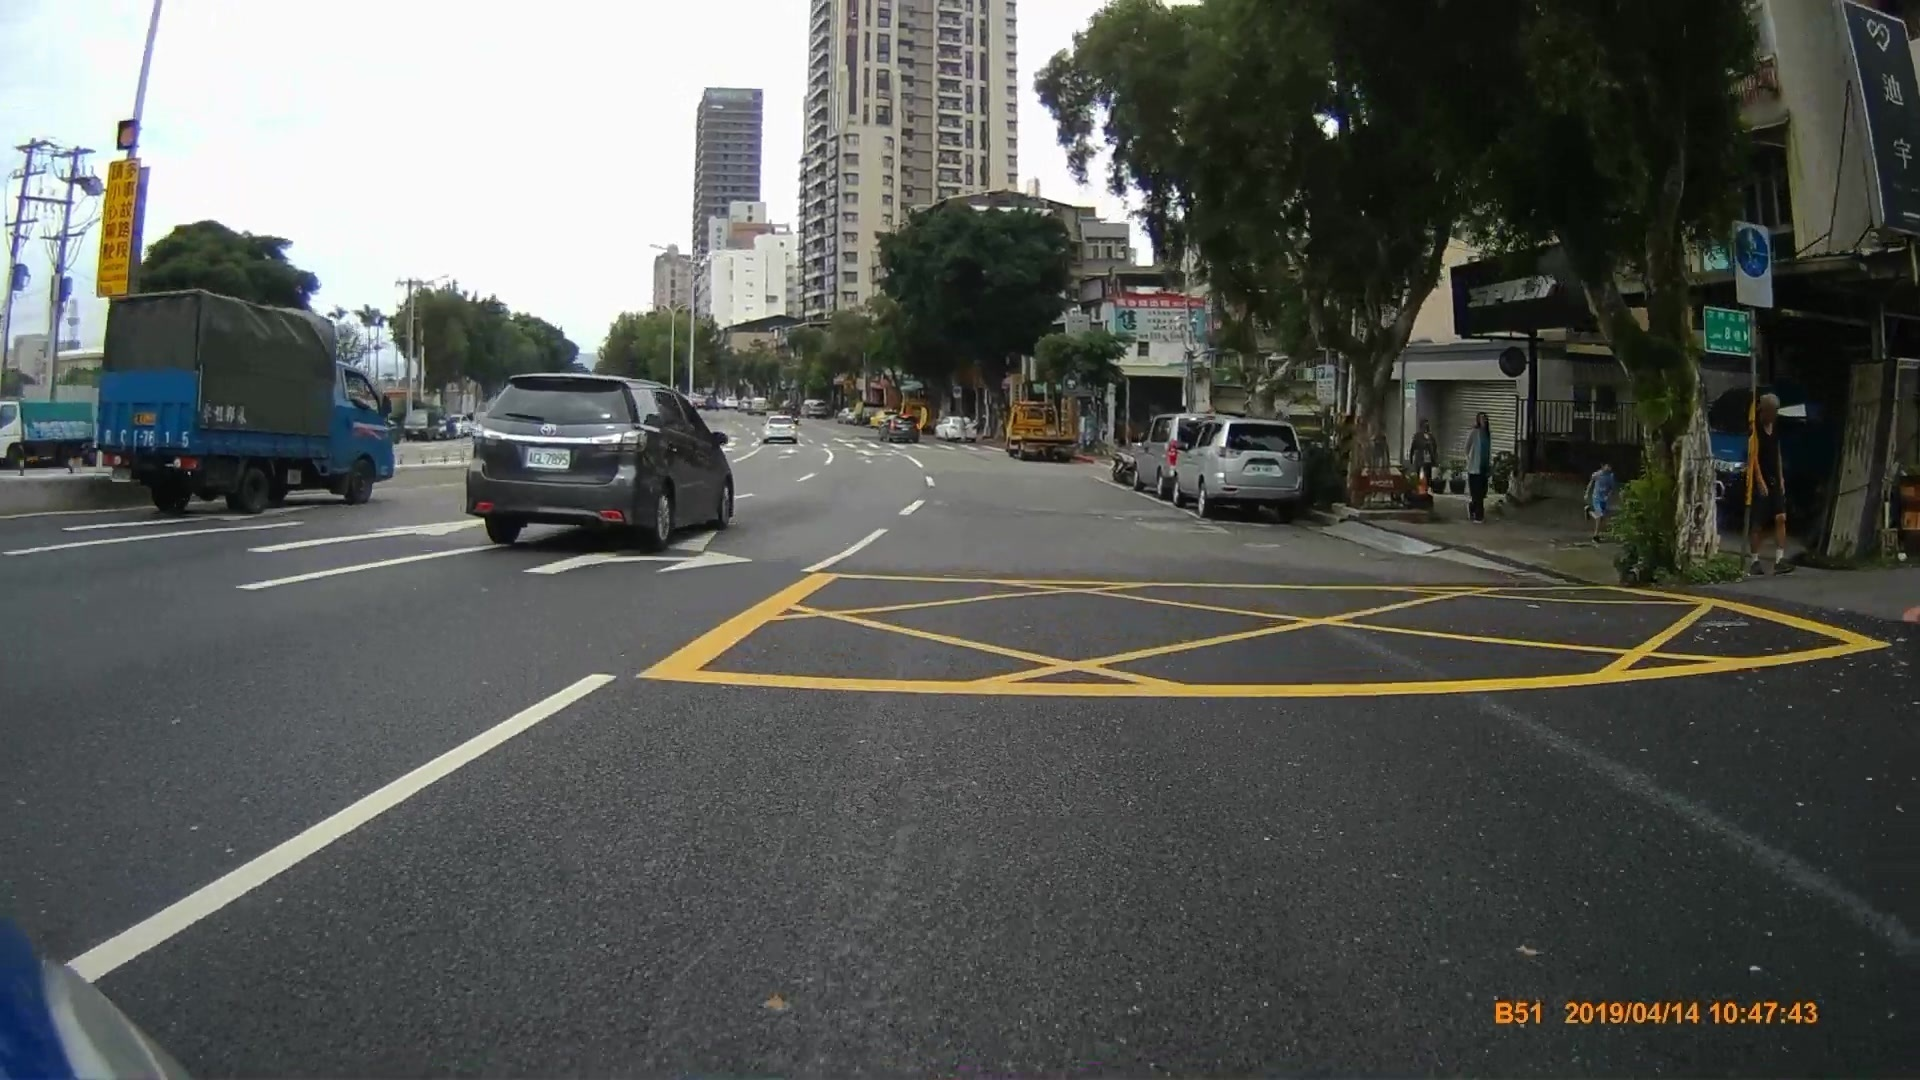License_plate: (526, 444, 571, 470)
